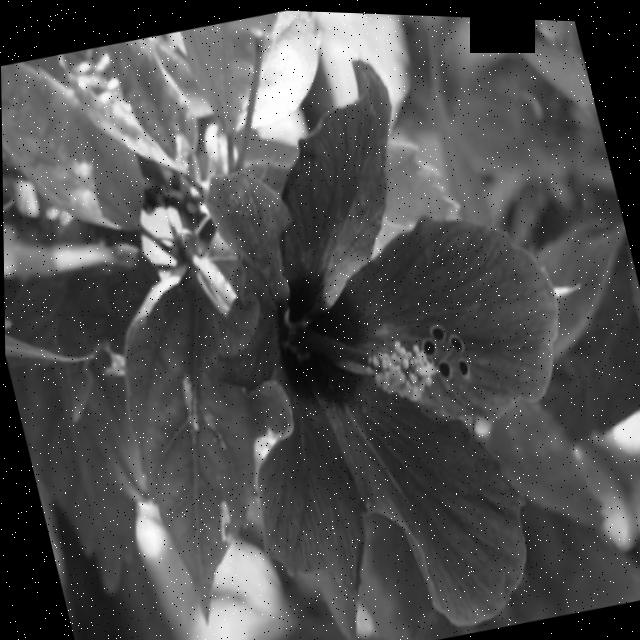hibiscus: (44, 1, 640, 640)
